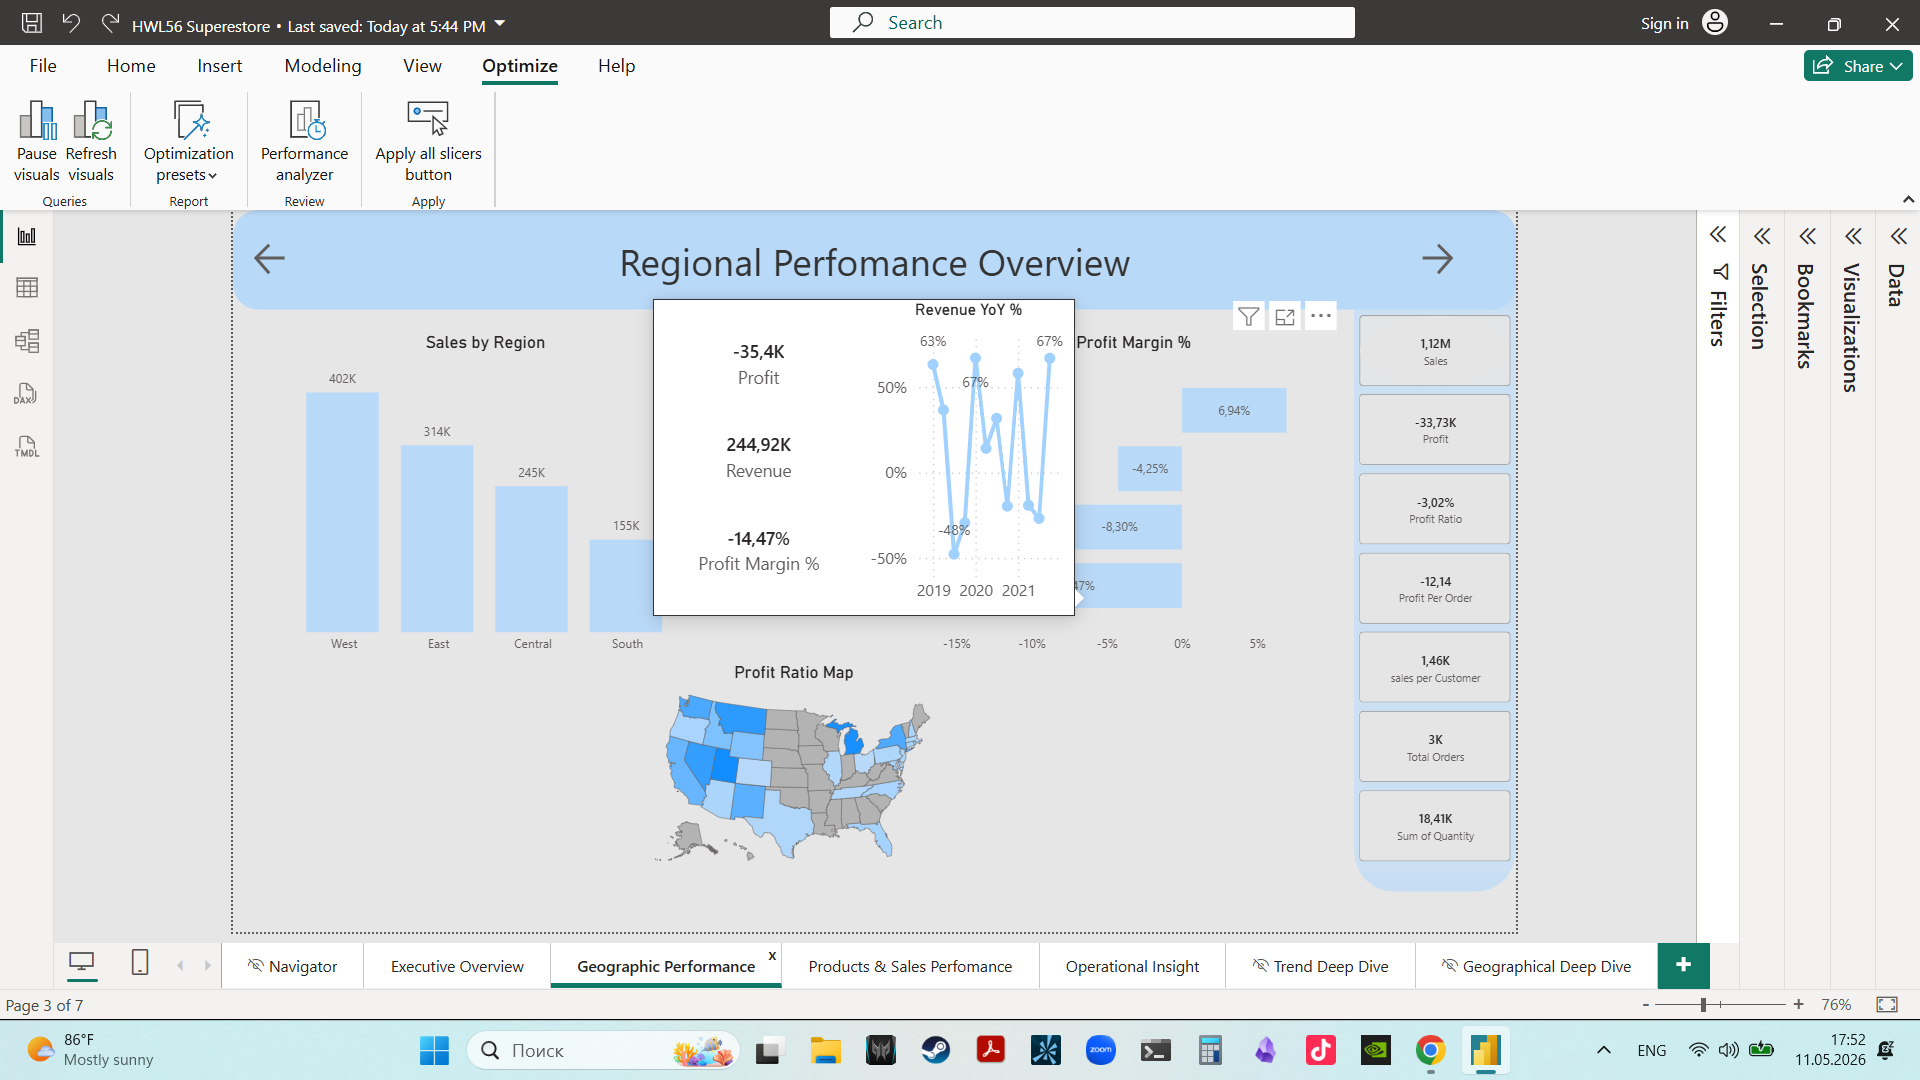

Layout of this report page (visuals, bound fields, positions):
{"tool":"powerbi","page":{"name":"Geographic Performance","canvas":[1280,720],"ordinal":2},"visuals":[{"type":"shape","box":[1118.2,29.3,161.7,651.1],"z":0},{"type":"shape","box":[0,0,1280.1,99.5],"z":1000},{"type":"cardVisual","fields":{"Data":["Measure.Sales","Measure.Profit","Measure.Profit Ratio","Measure.Profit per Order","Measure.sales per Customer","Measure.Total Orders","Sum(Sample - Superstore_Orders.Quantity)"]},"box":[1118.2,99,161.7,561.9],"z":2000},{"type":"shapeMap","title":"Profit Ratio Map","fields":{"Category":["Sample - Superstore_Orders.State"],"Value":["Measure.Profit Ratio"]},"box":[16.7,450.3,1084.7,210.5],"z":3000},{"type":"columnChart","title":"Sales by Region","fields":{"Category":["Sample - Superstore_Orders.Region"],"Y":["Measure.Sales"]},"box":[30.7,121.3,443.4,329],"z":4000},{"type":"barChart","title":" Regional Profit Margin % ","fields":{"Category":["Sample - Superstore_Orders.Region"],"Y":["Measure.Profit Margin %"]},"box":[626,121.3,475.4,329],"z":5000},{"type":"actionButton","box":[17,28.8,99.5,40.6],"z":6000},{"type":"actionButton","box":[1180.6,28.8,99.5,40.6],"z":7000}]}

Visuals, with their boxes on the page's 1280x720 design canvas (x1, y1, x2, y2). These are canvas units, not pixel positions in the 1920x1080 screenshot, which may show the page scaled, cropped or inside an application window:
shape: detection(1118, 29, 1280, 680)
shape: detection(0, 0, 1280, 100)
cardVisual - Measure.Sales x Measure.Profit: detection(1118, 99, 1280, 661)
"Profit Ratio Map" shapeMap: detection(17, 450, 1101, 661)
"Sales by Region" columnChart: detection(31, 121, 474, 450)
" Regional Profit Margin % " barChart: detection(626, 121, 1101, 450)
actionButton: detection(17, 29, 116, 69)
actionButton: detection(1181, 29, 1280, 69)
